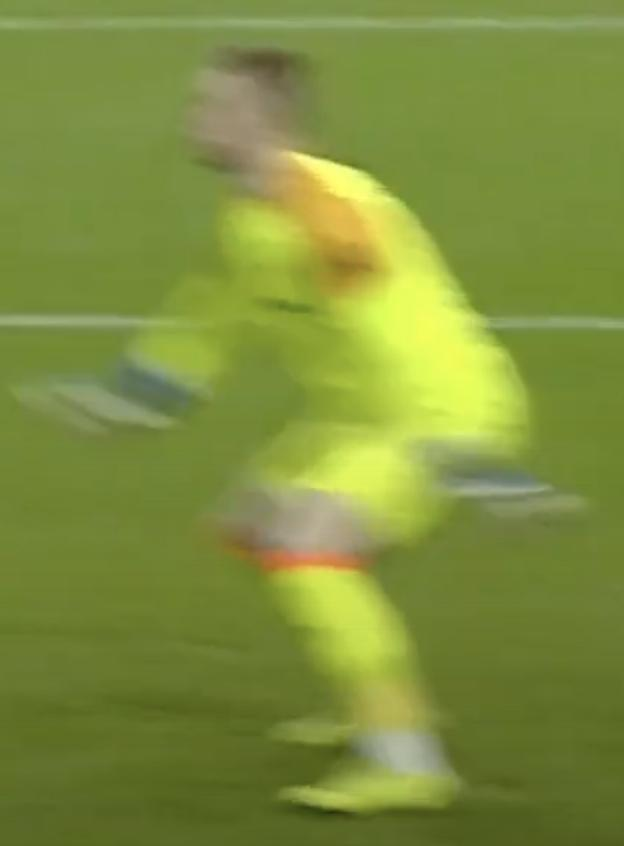goalkeeper: (18, 0, 624, 846)
